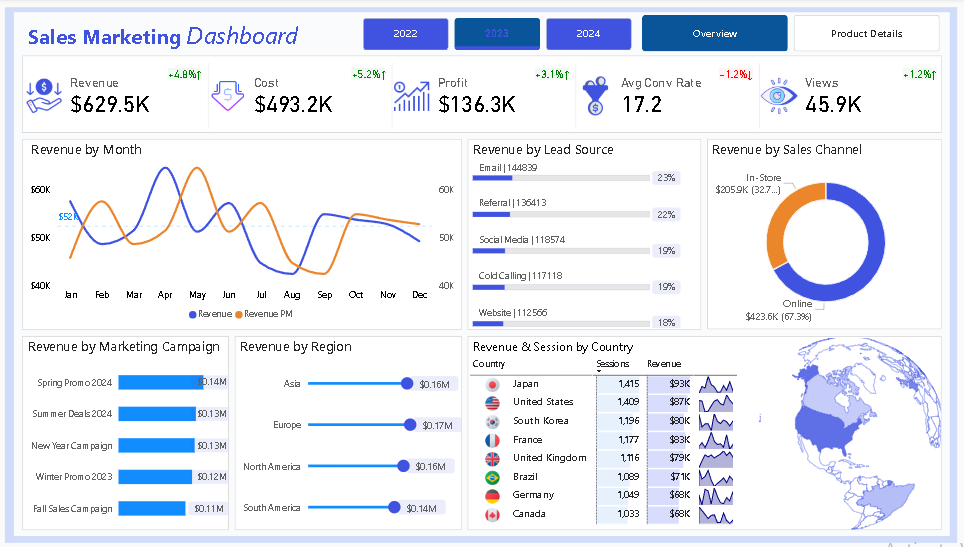

What the dashboard file says about the page in this screenshot:
{"tool":"powerbi","page":{"name":"Overview","canvas":[1300,750],"ordinal":0},"visuals":[{"type":"advancedSlicerVisual","fields":{"Values":["Calendar.Year"]},"box":[491,27.1,363,43.7],"z":0},{"type":"cardVisual","fields":{"Data":["All Measures.Revenue","All Measures.Cost","All Measures.Profit","All Measures.Avg Conversion Rate","All Measures.Views"]},"box":[34.6,81.3,1231.9,99.4],"z":1000},{"type":"lineChart","title":"Revenue by Month","fields":{"Y":["All Measures.Revenue"],"Category":["Calendar.Month"],"Y2":["All Measures.Revenue PM"]},"box":[34.6,192.8,587.3,251.5],"z":2000},{"type":"clusteredBarChart","title":"Revenue by Lead Source","fields":{"Y":["All Measures.Base Zero","All Measures.Rev % of lead","All Measures.Whole"],"Category":["dimLeadSource.Lead Source"]},"box":[632.5,192.8,311.7,251.5],"z":3000},{"type":"clusteredBarChart","fields":{"Y":["All Measures.Revenue"],"Category":["dimMarketingCampaign.Marketing Campaign"]},"box":[34.6,456.3,274.1,257.5],"z":4000},{"type":"donutChart","fields":{"Y":["All Measures.Revenue"],"Category":["dimChannel.Sales Channel"]},"box":[954.8,192.8,311.7,251.5],"z":5000},{"type":"clusteredBarChart","title":"Revenue by Region","fields":{"Y":["All Measures.Blank1","All Measures.Revenue","All Measures.Blank2"],"Category":["dimCountry.Region"]},"box":[319.3,456.3,302.7,257.5],"z":6000},{"type":"tableEx","fields":{"Values":["dimCountry.flag","dimCountry.Country","All Measures.Sessions","All Measures.Revenue","All Measures.Revenue Sparkline"]},"box":[632.5,481.9,363,231.9],"z":7000},{"type":"shapeMap","fields":{"Value":["All Measures.Revenue"],"Category":["dimCountry.Country"]},"box":[995.5,456.3,271.1,257.5],"z":8000},{"type":"textbox","box":[40.7,25.6,420.2,45.2],"z":9000},{"type":"textbox","box":[638.6,456.3,301.2,25.6],"z":10000},{"type":"pageNavigator","box":[866,22.6,400.6,49.7],"z":11000}]}

Visuals, with their boxes in screenshot pixels (x1, y1, x2, y2), scaled from the page's 1300x750 canvas onto the 964x547 screenshot:
advancedSlicerVisual - Calendar.Year: box=[364, 20, 633, 52]
cardVisual - All Measures.Revenue x All Measures.Cost: box=[26, 59, 939, 132]
"Revenue by Month" lineChart: box=[26, 141, 461, 324]
"Revenue by Lead Source" clusteredBarChart: box=[469, 141, 700, 324]
clusteredBarChart - All Measures.Revenue x dimMarketingCampaign.Marketing Campaign: box=[26, 333, 229, 521]
donutChart - All Measures.Revenue x dimChannel.Sales Channel: box=[708, 141, 939, 324]
"Revenue by Region" clusteredBarChart: box=[237, 333, 461, 521]
tableEx - dimCountry.flag x dimCountry.Country: box=[469, 351, 738, 521]
shapeMap - All Measures.Revenue x dimCountry.Country: box=[738, 333, 939, 521]
textbox: box=[30, 19, 342, 52]
textbox: box=[474, 333, 697, 351]
pageNavigator: box=[642, 16, 939, 53]
